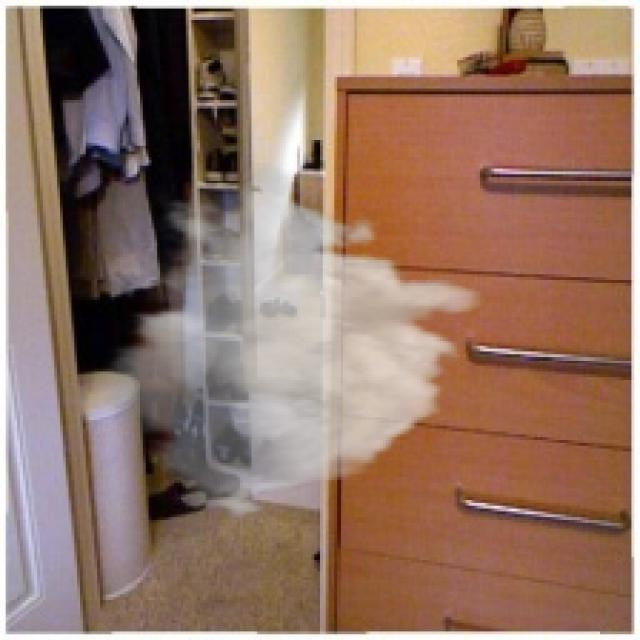Smoke: (91, 163, 488, 520)
